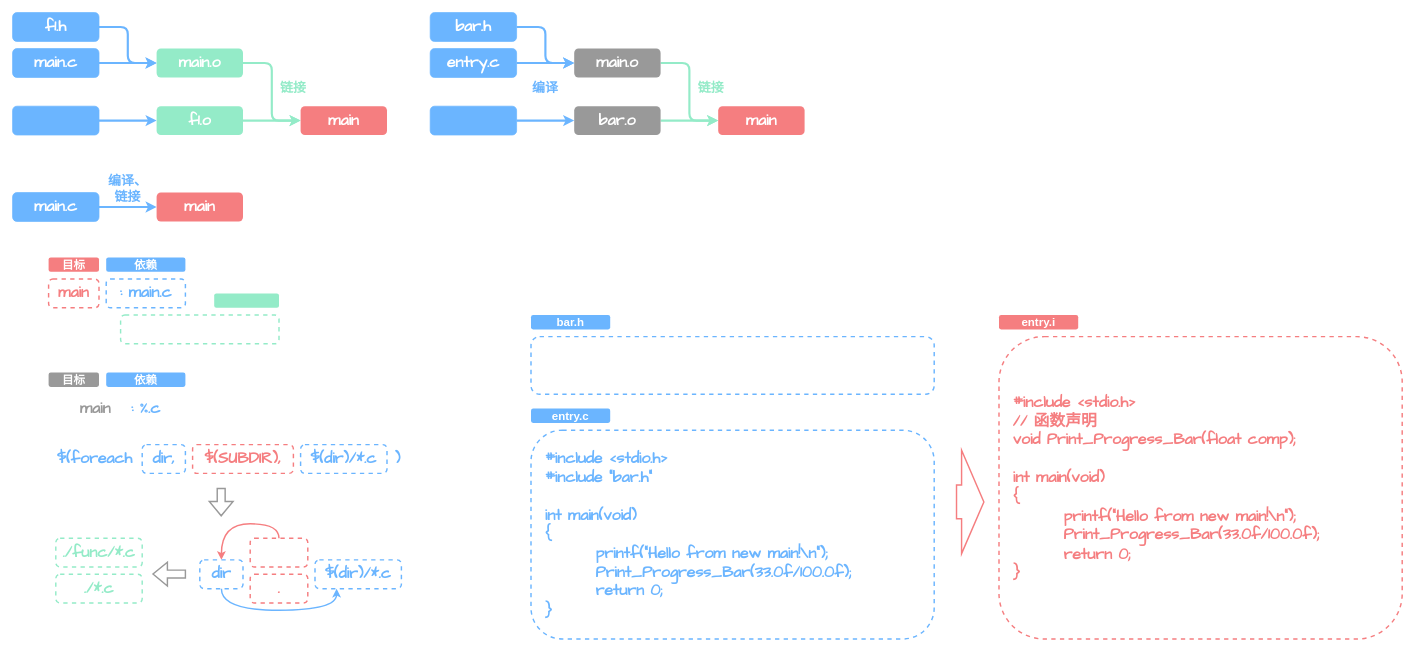
This 1416x652 diagram has some shape labels left out. Here are the shapes that lost their labels. From the top down, the box of each, then its label:
(12, 105, 99, 135): f1.c
(429, 105, 517, 135): bar.c
(214, 293, 279, 307): 执行语句
(120, 314, 279, 344): gcc main.c -o main
(530, 336, 935, 395): // 函数声明 void Print_Progress_Bar(float comp);
(249, 537, 308, 567): ./func
